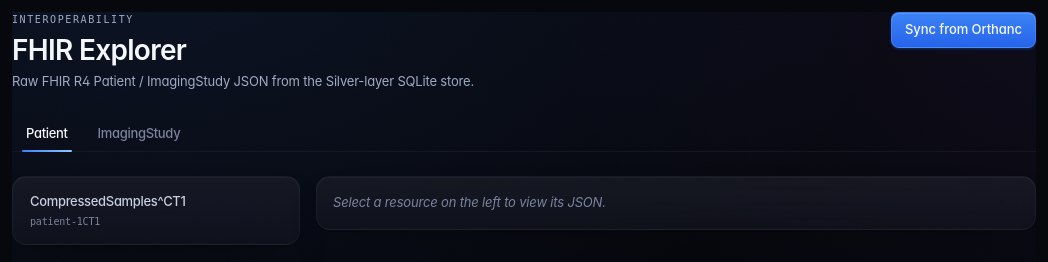
Test: FhirExplorer page › renders an error alert in the detail pane when the resource fetch fails
Click the button "CompressedSamples^CT1 patient-1CT1": (156, 210) [19,183,293,238]
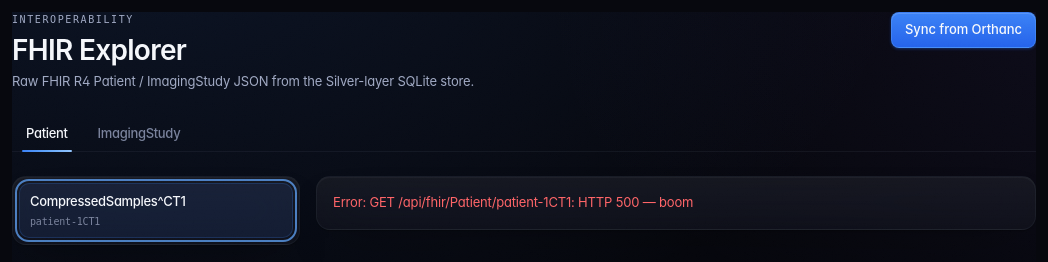
Expected: the message "Error: GET /api/fhir/Patient/patient-1CT1: HTTP 500 — boom" is shown, [333,194,693,210]
